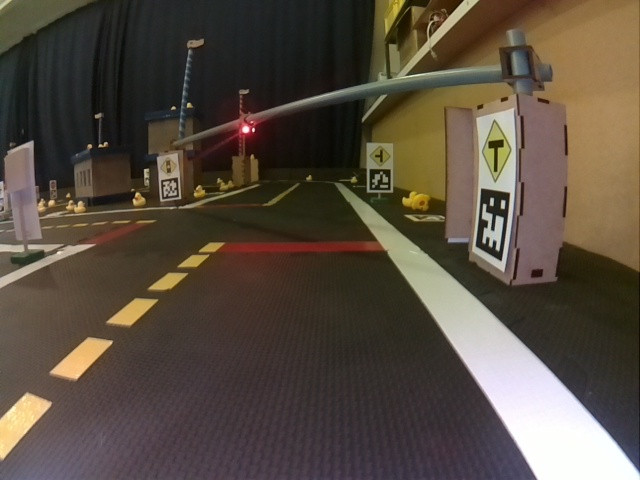Duckie: (413, 194, 426, 208), (132, 193, 143, 203)
Intersection sign: (480, 120, 514, 181), (369, 145, 390, 166)
QR code: (475, 193, 513, 261), (159, 178, 182, 200), (369, 172, 392, 191), (406, 213, 443, 223)
Signal sign: (159, 158, 180, 175)
Traffic light: (242, 121, 256, 135)
